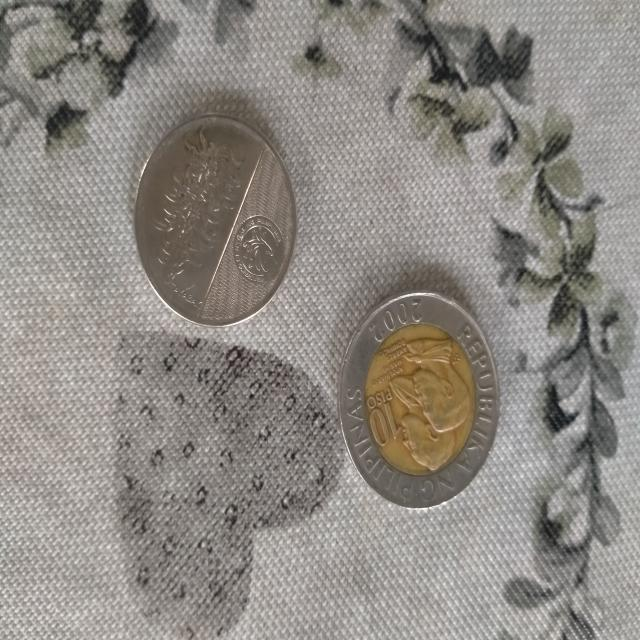10_Old_Front: (359, 365, 407, 467)
5_New_Back: (151, 126, 240, 292)
